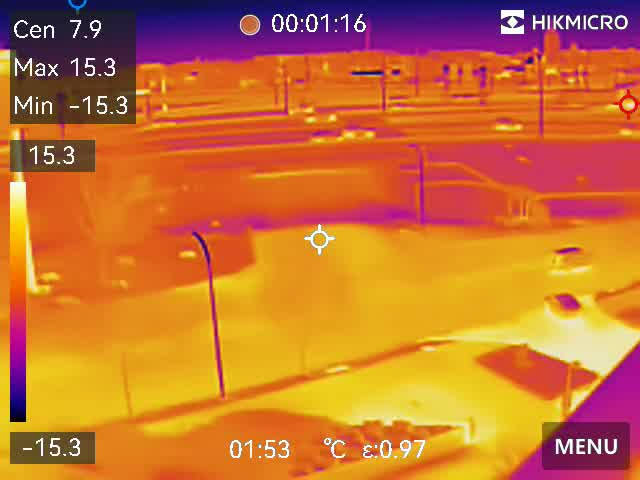smallCar: (541, 292, 592, 322)
vehicle: (548, 243, 594, 272), (492, 115, 529, 134), (309, 128, 346, 145), (342, 126, 381, 142), (303, 111, 339, 128)
